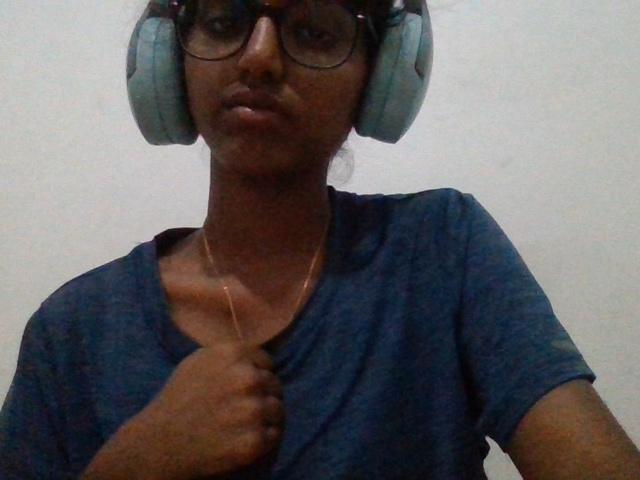Sorry: (79, 310, 346, 480)
